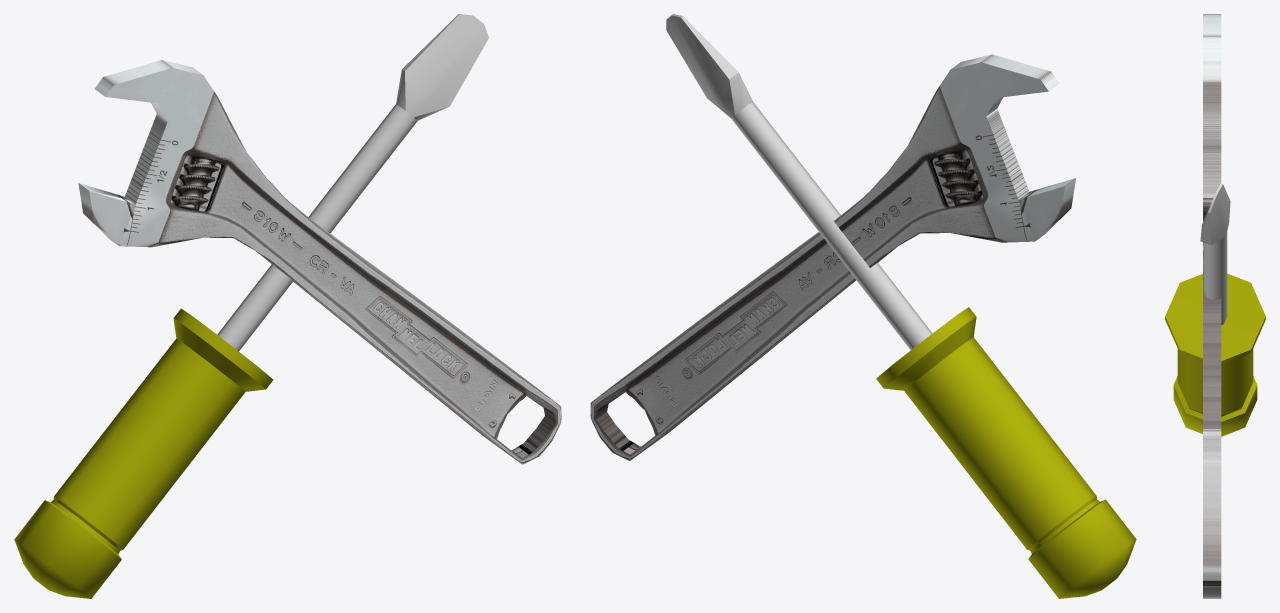
Rendered from Repair Kit.FBX.
3 renders of one model, left to right at view 1: azimuth 30°, elevation 25°; view 2: azimuth 150°, elevation 25°; view 3: azimuth 270°, elevation 25°, orthographic. The views are drawn at different scales.
Parts seen in each view (by area): view 1: Plane002, Cylinder001; view 2: Plane002, Cylinder001; view 3: Cylinder001, Plane002.
Part boxes in pixels (x1,y1,x2,y2): Plane002: (78, 60, 561, 464); Cylinder001: (14, 14, 488, 598); Plane002: (590, 54, 1075, 460); Cylinder001: (666, 14, 1136, 598); Cylinder001: (1165, 183, 1265, 436); Plane002: (1203, 14, 1221, 598).
Size of the model in its own units: 141 by 129 by 26.98.
